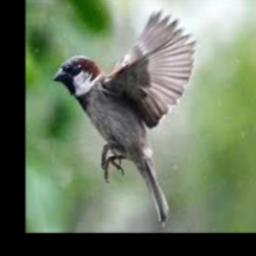Sparrow: (54, 9, 196, 225)
